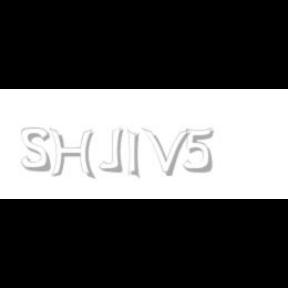5: (182, 128, 214, 174)
H: (49, 128, 95, 180)
I: (128, 128, 140, 180)
J: (98, 128, 124, 172)
S: (21, 128, 52, 172)
V: (142, 128, 190, 176)
